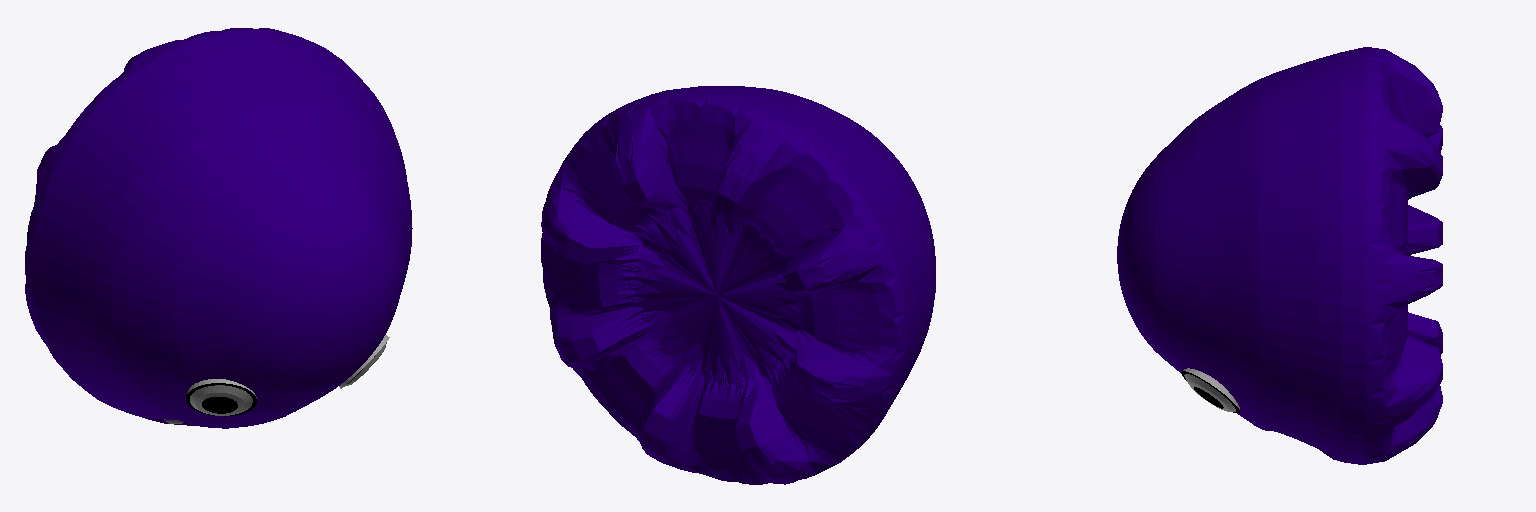
The picture shows the model from 3 angles: view 1: azimuth 30°, elevation 25°; view 2: azimuth 150°, elevation 25°; view 3: azimuth 270°, elevation 25°; orthographic projection.
Visible parts, largest first — view 1: Sphere.002, Sphere; view 2: Sphere.002; view 3: Sphere.002, Sphere.
Boxes of the visible parts, x1=… form: Sphere.002: x1=25, y1=28, x2=412, y2=428; Sphere: x1=186, y1=335, x2=389, y2=416; Sphere.002: x1=541, y1=86, x2=935, y2=484; Sphere.002: x1=1117, y1=47, x2=1442, y2=464; Sphere: x1=1181, y1=368, x2=1239, y2=412.
Size of the model in its own units: 12.24 by 12.23 by 9.55.